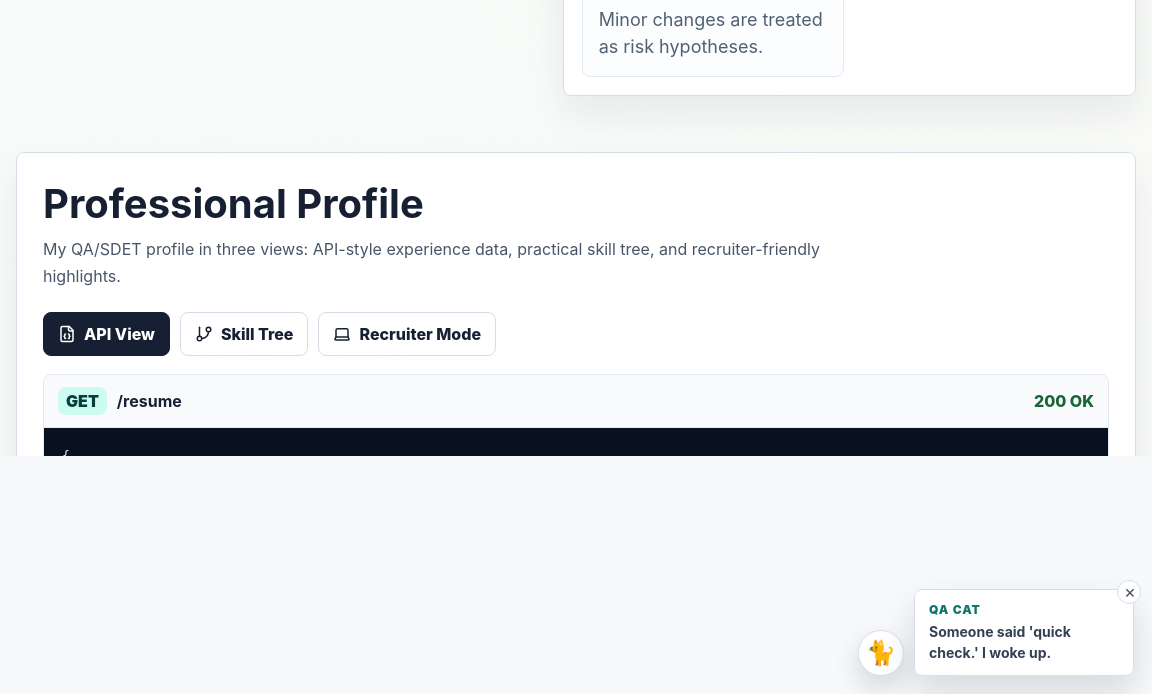
Test: Galina QA Control Center UI › Recruiter Mode Contact section renders a LinkedIn link
(page scrolled)
Step 1. Click the button "Recruiter Mode" → click(407, 334), box [318,312,496,356]
(page scrolled)
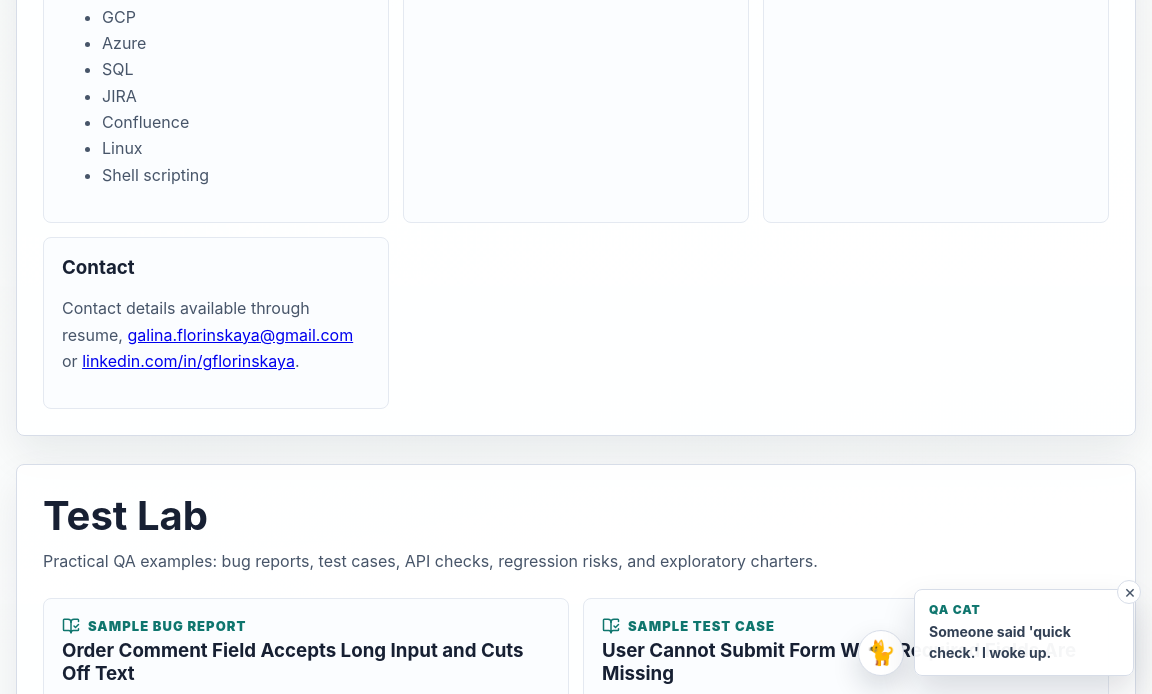
Expected: the link "linkedin.com/in/gflorinskaya" is shown, [82,351,295,371]
